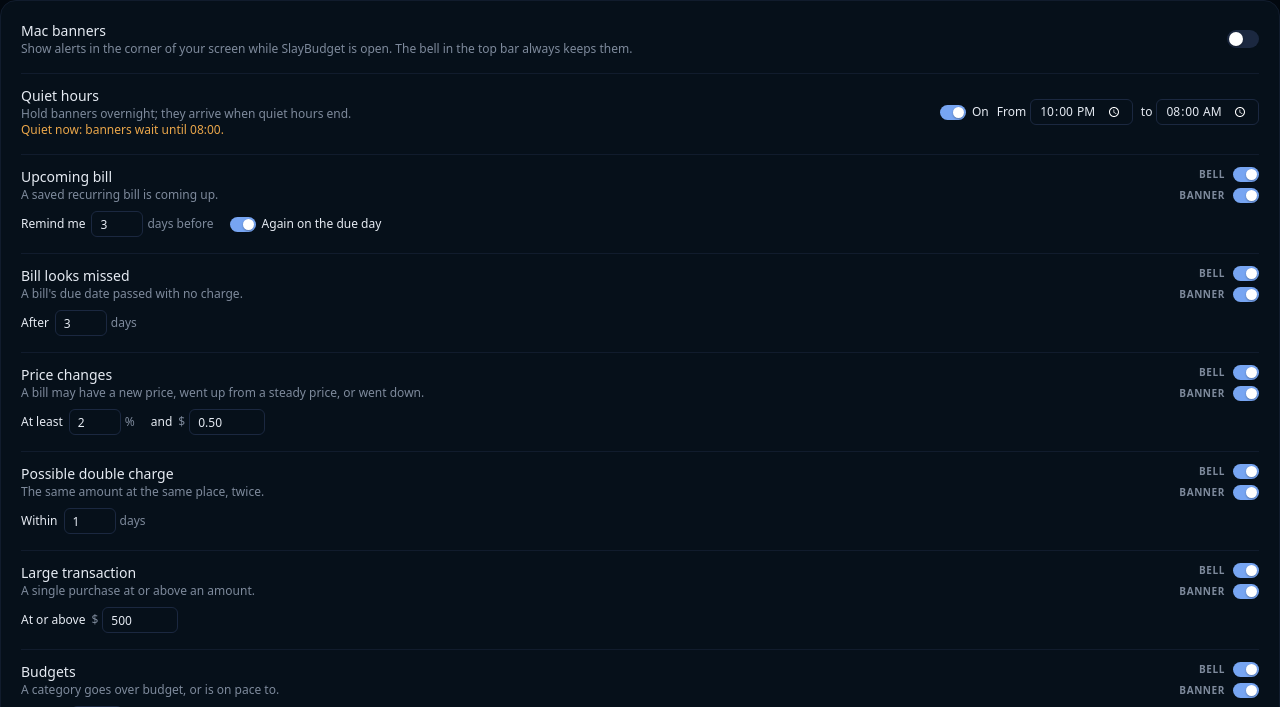
NotificationsPane › explains an invalid value and does not save it
Check: the element "Upcoming bill" is shown, box [21,154,1259,249]
Replace the text in the number field named "Days before" with "0": (118, 224) [92,211,144,237]
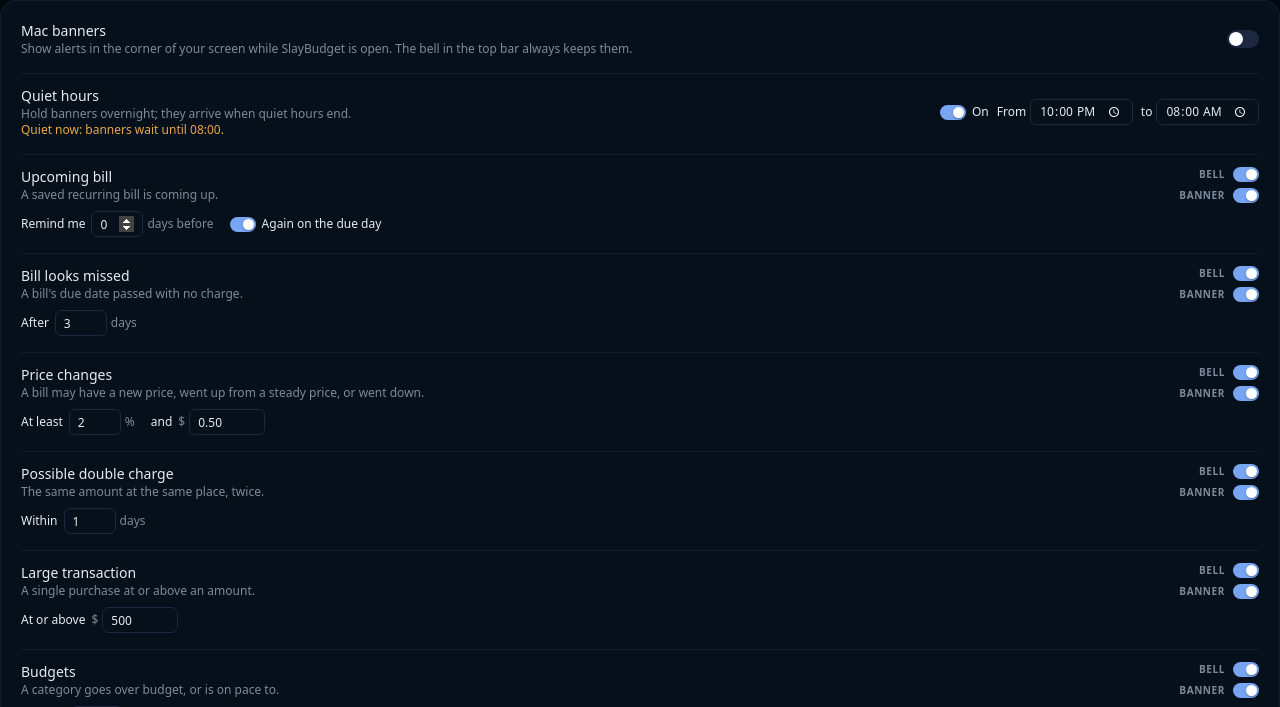
Press Tab
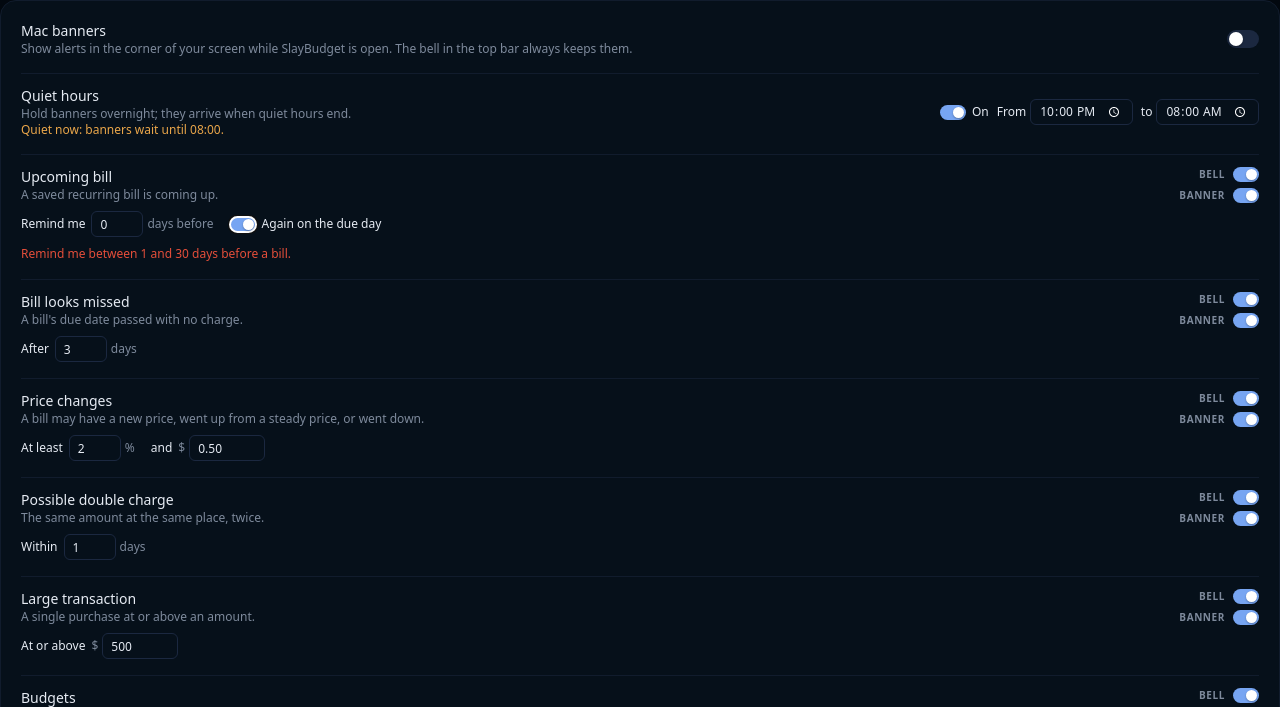
Check: the message shows "between 1 and 30", box [21,245,291,262]
